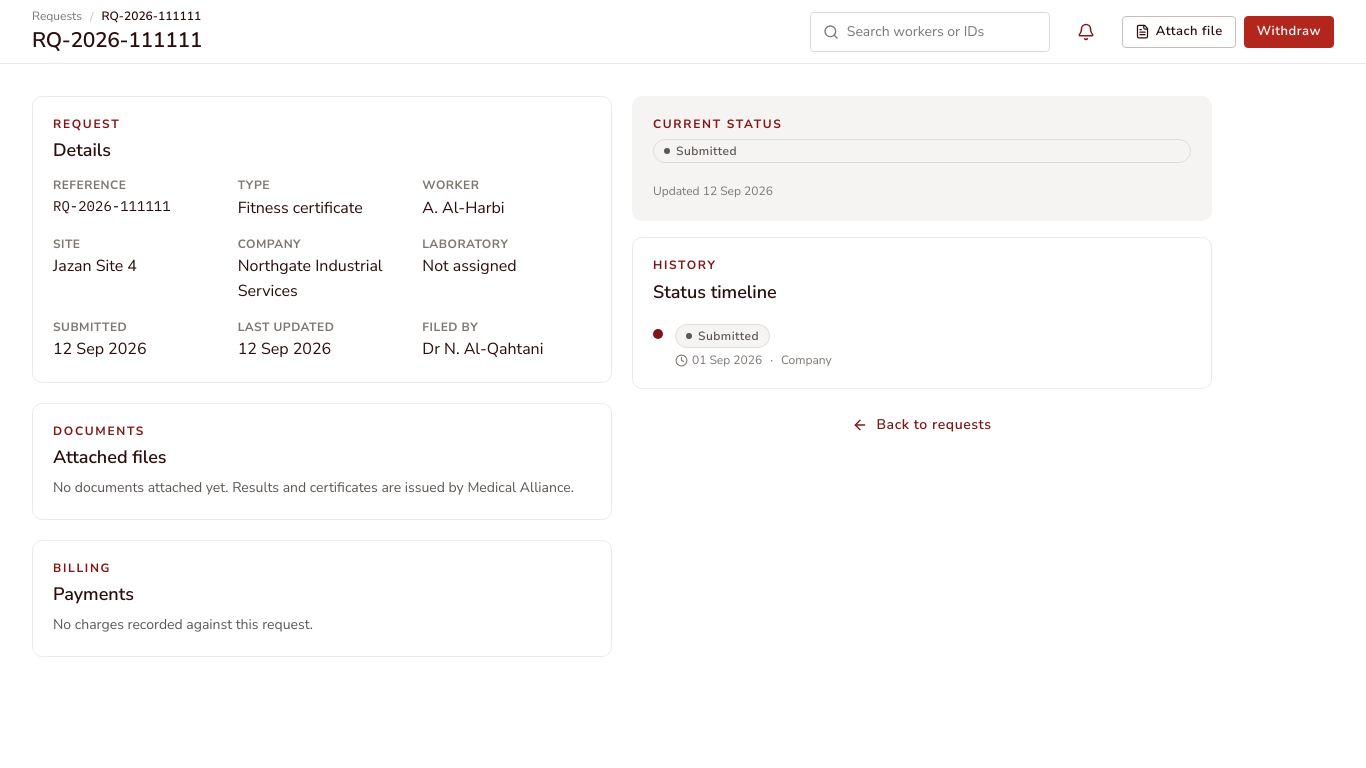
Test: RequestDetailScreen › surfaces the API error when a withdrawal is refused
What coordinates should you click on to do the following:
click the button "Withdraw"
I would click on:
 (1289, 32)
Its box is [1244, 16, 1334, 48].
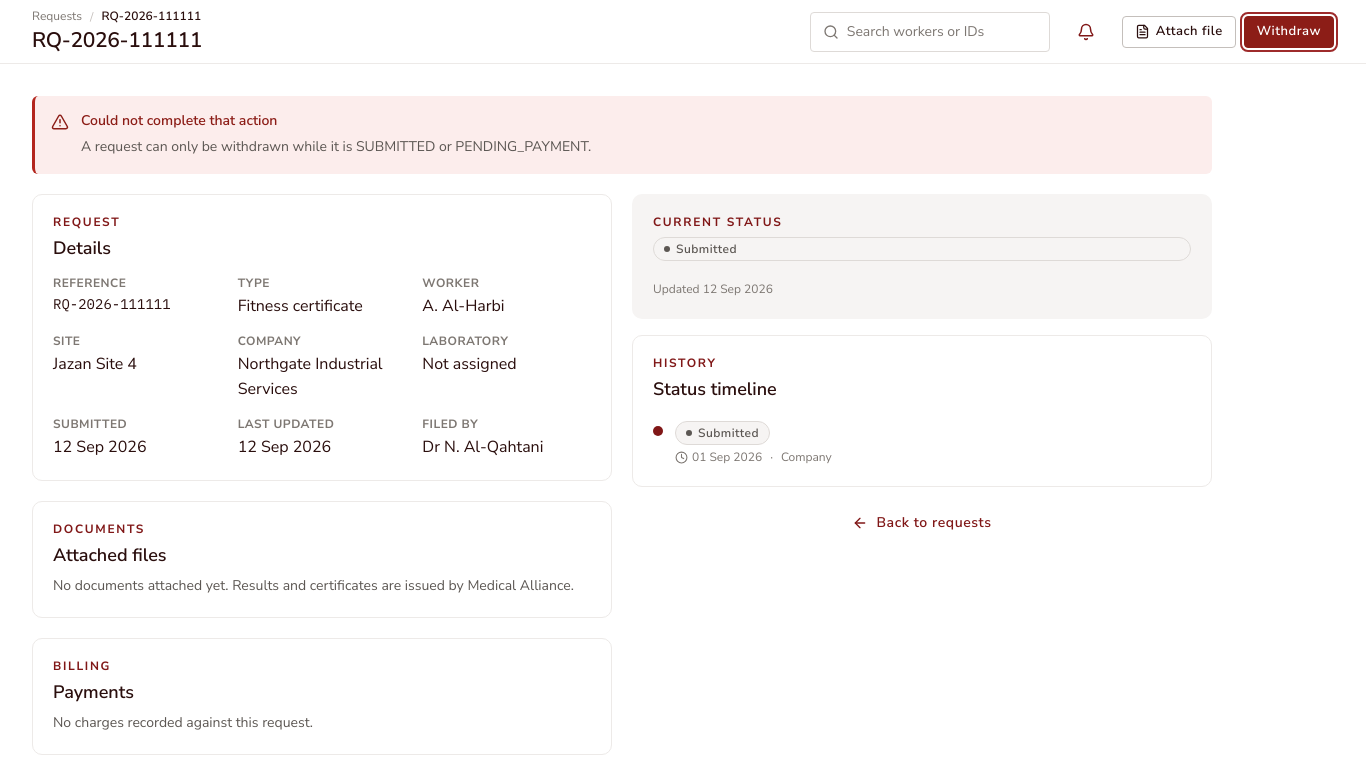
Expected: the text "can only be withdrawn" is shown, [81, 137, 591, 156]
